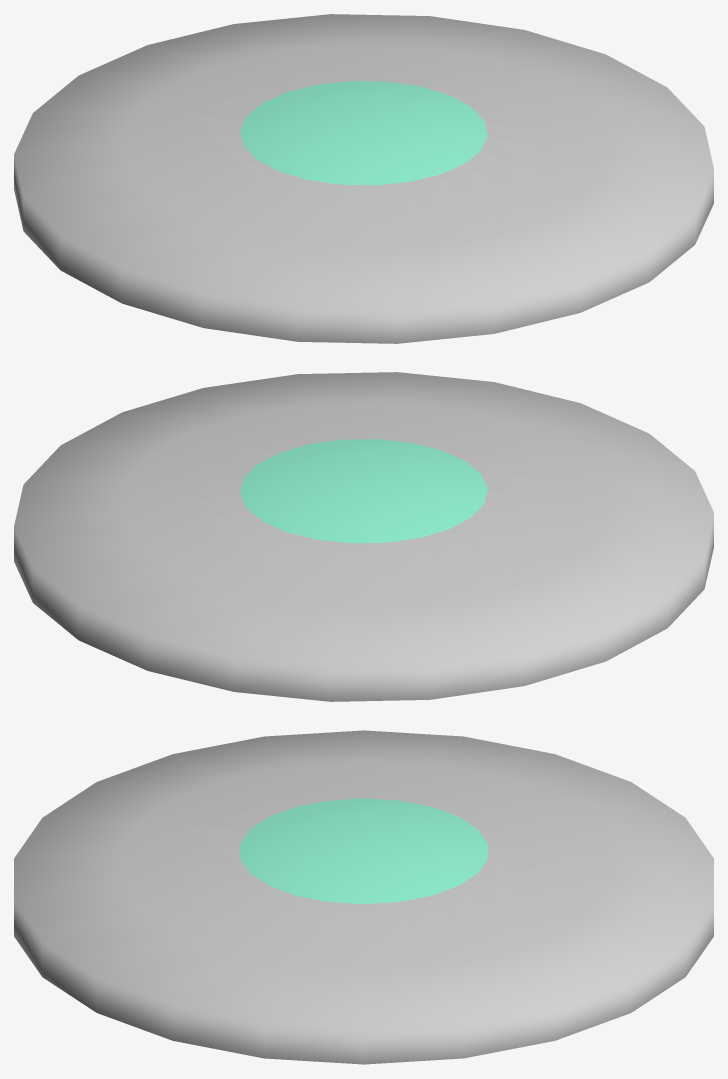
File: si_small_landlight.DAE
3 views of the same model, one above another, from view 1: azimuth 30°, elevation 25°; view 2: azimuth 150°, elevation 25°; view 3: azimuth 270°, elevation 25° (orthographic).
Visible parts, largest first — view 1: si_small_landlight20; view 2: si_small_landlight20; view 3: si_small_landlight20.
Boxes of the visible parts, bbox=[...] form: si_small_landlight20: bbox=[14, 14, 713, 343]; si_small_landlight20: bbox=[14, 372, 713, 701]; si_small_landlight20: bbox=[14, 730, 713, 1064].
Size of the model in its own units: 28 by 27.72 by 3.16.
